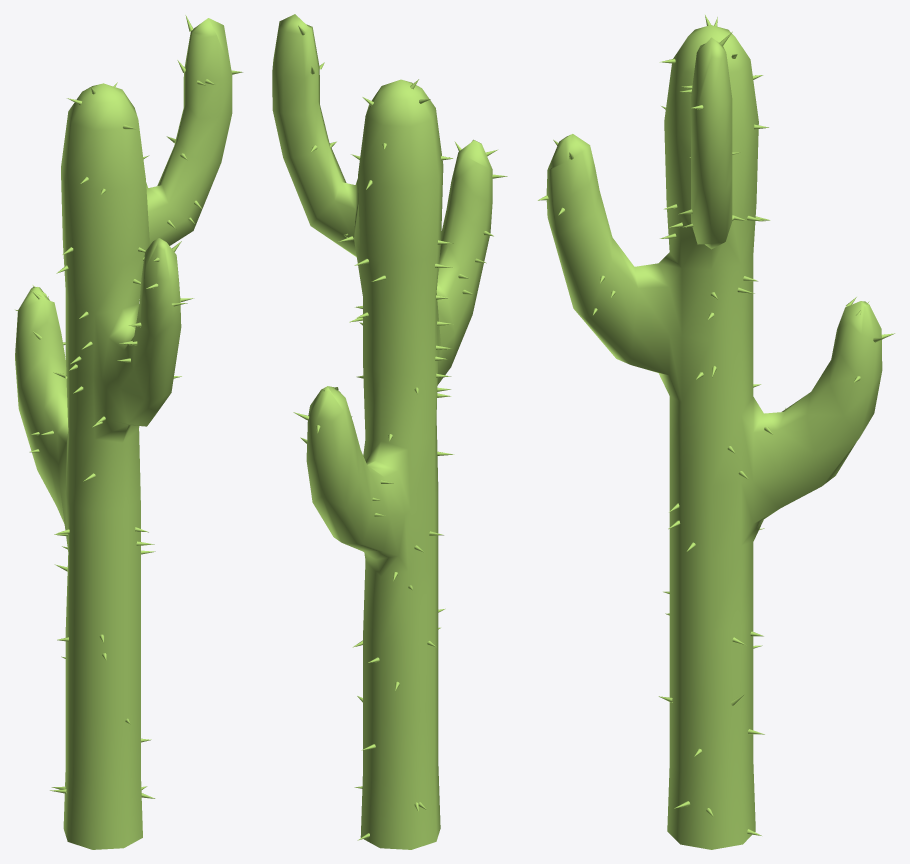
File: cactP1.fbx
3 renders of one model, left to right at view 1: azimuth 30°, elevation 25°; view 2: azimuth 150°, elevation 25°; view 3: azimuth 270°, elevation 25°, orthographic. The views are drawn at different scales.
Parts seen in each view (by area): view 1: pCylinder2; view 2: pCylinder2; view 3: pCylinder2.
Part boxes in pixels (x1=…): pCylinder2: x1=15, y1=15, x2=242, y2=849; pCylinder2: x1=272, y1=14, x2=507, y2=849; pCylinder2: x1=537, y1=15, x2=895, y2=849.
Size of the model in its own units: 0.8458 by 3.53 by 1.35.
